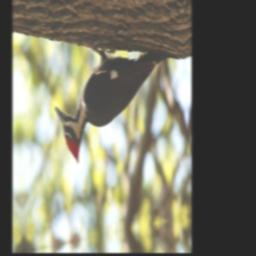Woodpecker: (51, 14, 183, 170)
